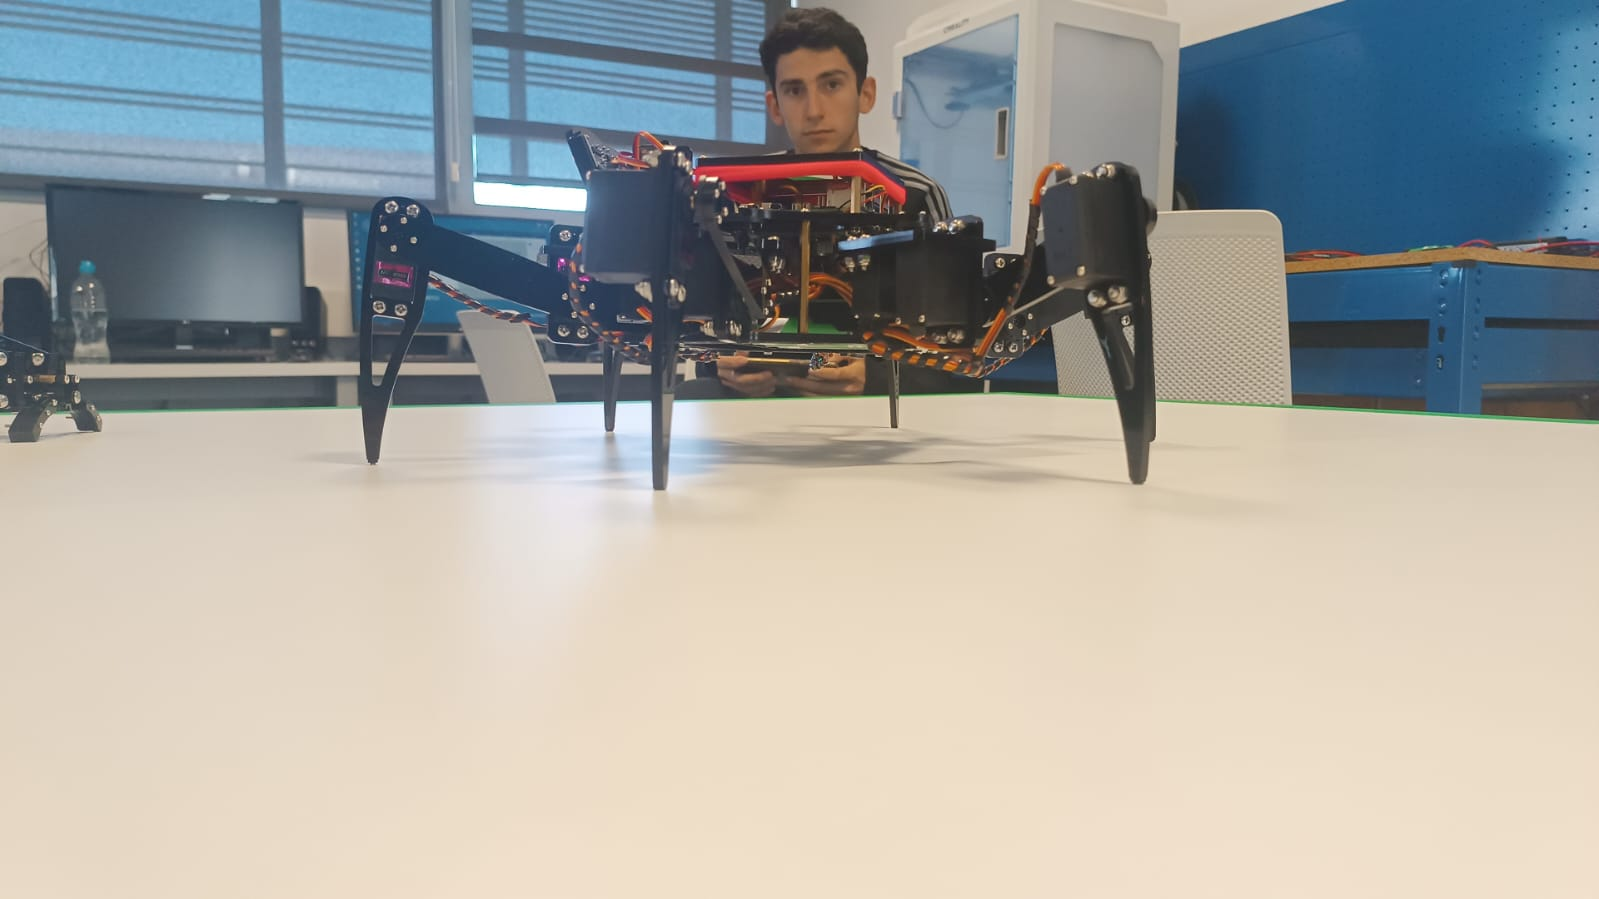hexapodo_propio: (356, 122, 1167, 488)
